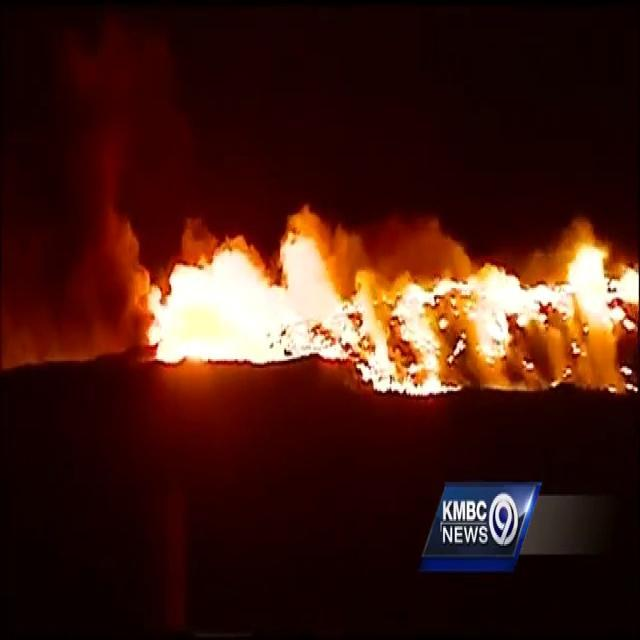Fire: (110, 190, 640, 396)
Smoke: (0, 5, 162, 368)
